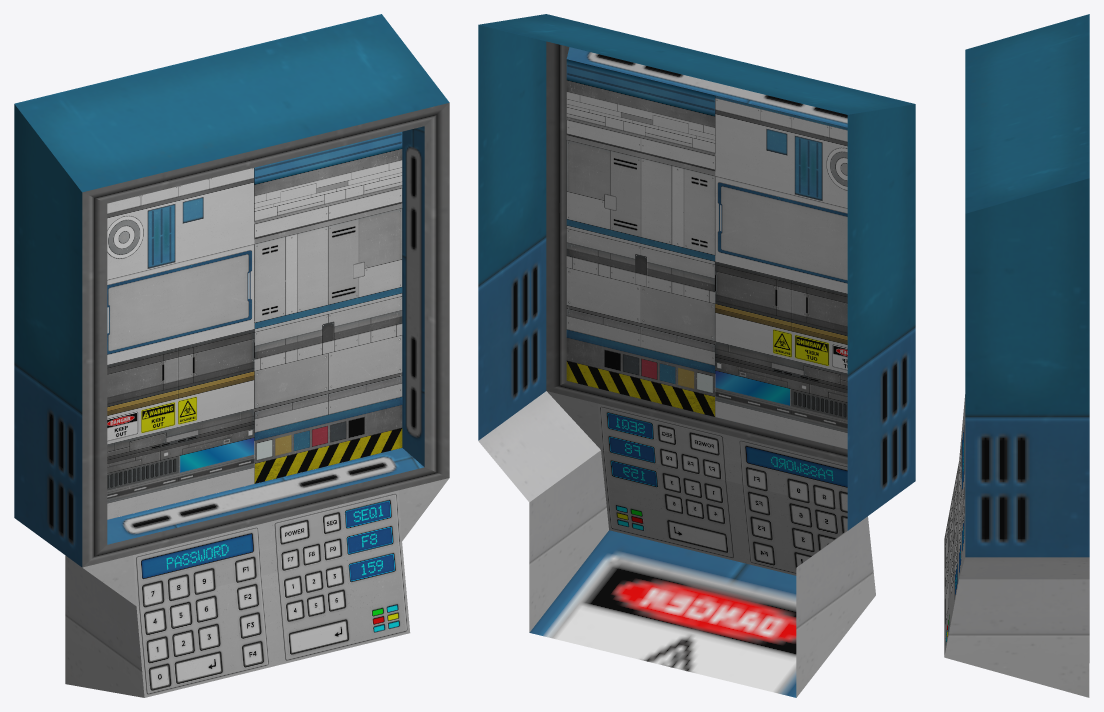
File: Intercom_Wall_01.FBX
3 renders of one model, left to right at view 1: azimuth 30°, elevation 25°; view 2: azimuth 150°, elevation 25°; view 3: azimuth 270°, elevation 25°, orthographic. The views are drawn at different scales.
Parts seen in each view (by area): view 1: Intercom_Wall_01, Screen; view 2: Intercom_Wall_01, Screen; view 3: Intercom_Wall_01.
Boxes of the visible parts, x1,y1,x2,y2 form: Intercom_Wall_01: (14,14,449,697); Screen: (107,132,402,519); Intercom_Wall_01: (478,14,915,697); Screen: (566,59,847,449); Intercom_Wall_01: (944,14,1089,697).
Bounding box in the file's own units: 11.99 × 18.48 × 4.48.
